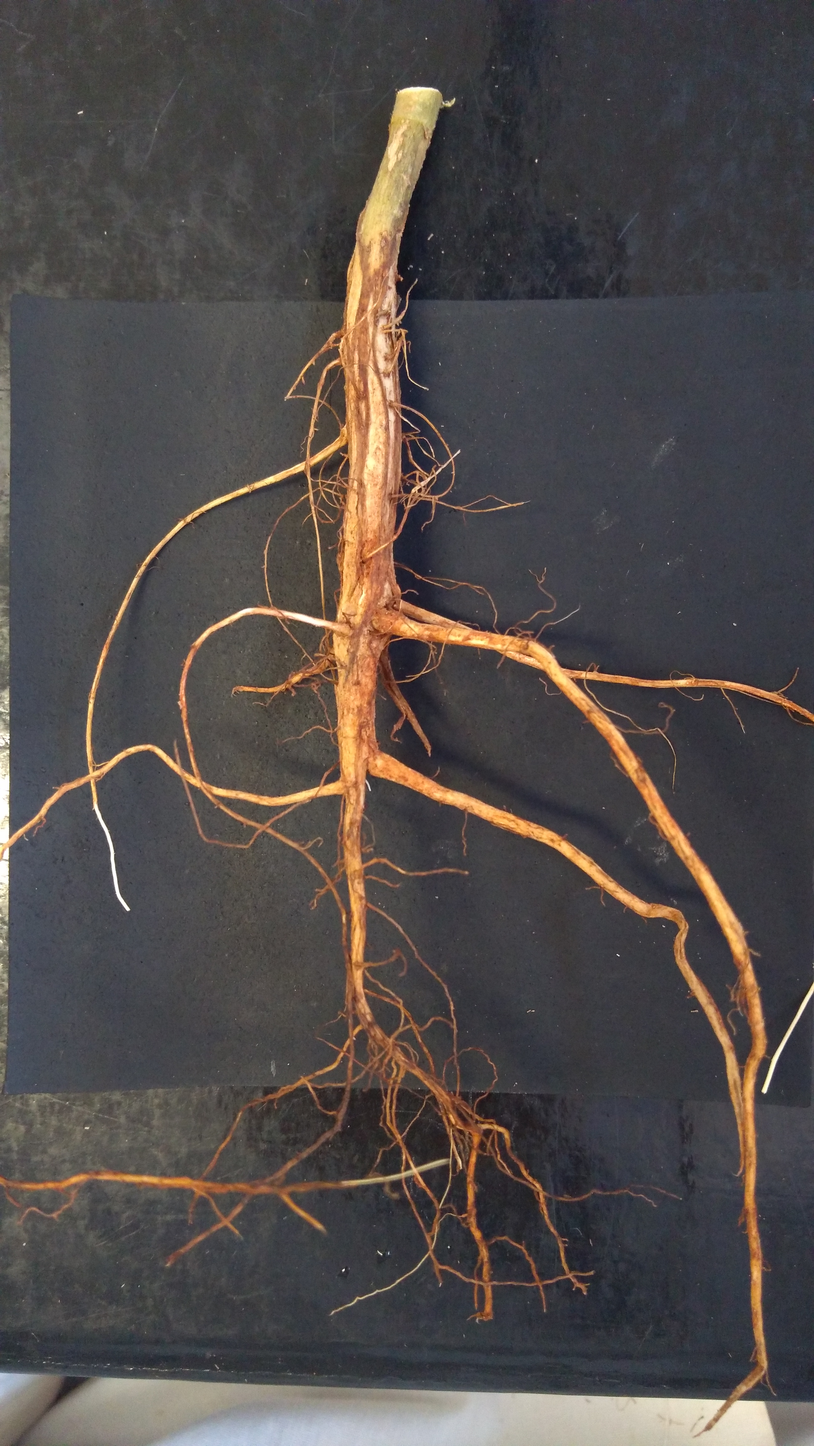nodule: (336, 551, 344, 572)
